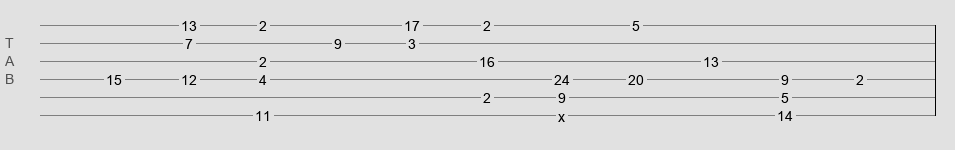11: (255, 108, 271, 118)
12: (181, 72, 197, 82)
13: (181, 18, 197, 28), (703, 54, 719, 64)
14: (777, 108, 793, 118)
15: (106, 72, 122, 82)
16: (479, 54, 495, 64)
17: (404, 18, 420, 28)
2: (259, 18, 267, 28), (259, 54, 267, 64), (483, 90, 491, 100), (483, 18, 491, 28), (856, 72, 864, 82)
20: (628, 72, 644, 82)
24: (554, 72, 570, 82)
3: (408, 36, 416, 46)
4: (259, 72, 267, 82)
5: (632, 18, 640, 28), (781, 90, 789, 100)
7: (185, 36, 193, 46)
9: (334, 36, 342, 46), (558, 90, 566, 100), (781, 72, 789, 82)
x: (558, 109, 565, 117)
